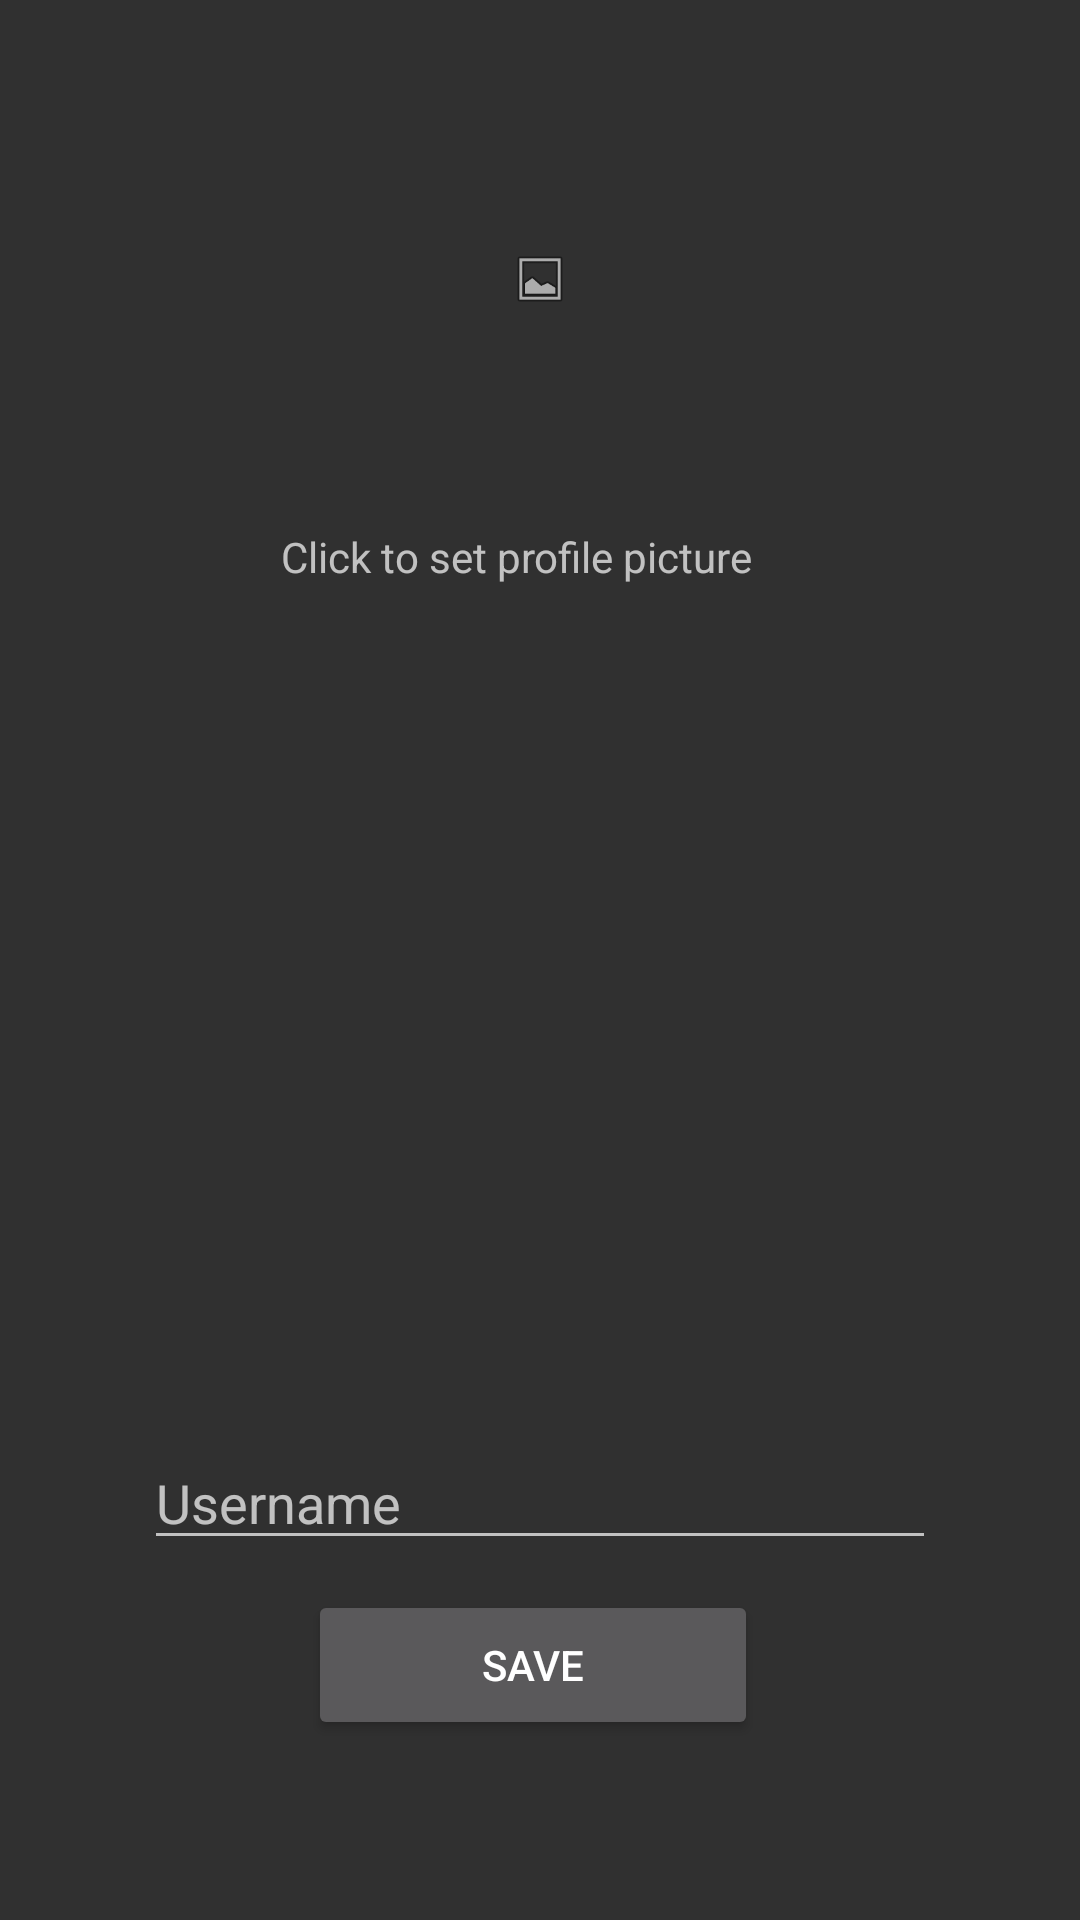

Where icons sit on this 1080×1920 app screen, as bbox(x1, y1, x2, y2):
gallery: bbox(517, 256, 563, 302)
